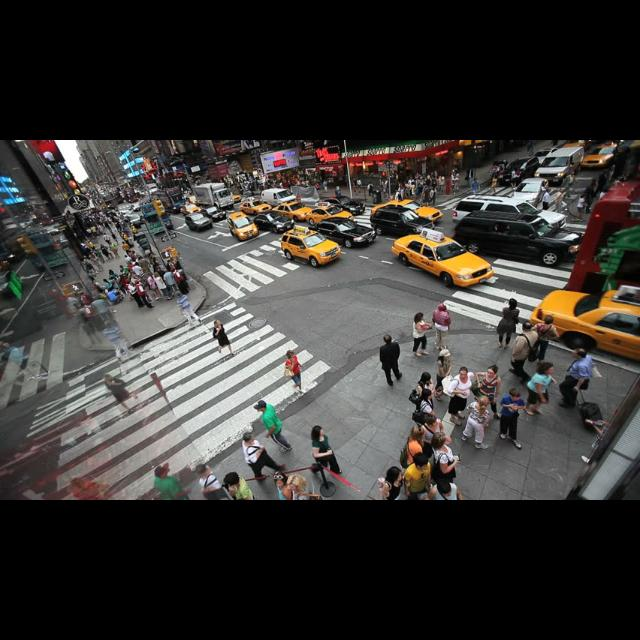head: (412, 452, 430, 472), (432, 434, 448, 451), (288, 476, 304, 492), (437, 482, 453, 498), (388, 468, 404, 482), (154, 466, 172, 478), (274, 472, 286, 490), (226, 473, 240, 487), (412, 426, 426, 439), (572, 348, 588, 359), (510, 388, 522, 402), (542, 362, 554, 376), (427, 415, 438, 429), (196, 468, 208, 480), (488, 365, 498, 379), (441, 351, 452, 362), (244, 434, 256, 444), (314, 428, 326, 438), (460, 368, 470, 380), (422, 373, 432, 385), (287, 351, 297, 362), (257, 402, 267, 413), (478, 398, 489, 408), (522, 322, 532, 333), (422, 390, 433, 400), (105, 374, 114, 384), (544, 316, 554, 324), (416, 314, 426, 322), (214, 320, 222, 328), (510, 302, 518, 310), (383, 335, 391, 343), (439, 304, 447, 312), (606, 421, 614, 429), (106, 320, 112, 328), (175, 292, 182, 298), (126, 280, 132, 286), (134, 280, 140, 286), (92, 254, 98, 260), (80, 258, 86, 264), (154, 274, 160, 278), (172, 268, 176, 274), (108, 288, 112, 294), (110, 270, 114, 276), (474, 178, 478, 184), (95, 296, 101, 300), (572, 172, 576, 178), (138, 256, 144, 260), (164, 270, 168, 274), (104, 280, 108, 284), (110, 242, 114, 246), (124, 256, 128, 260), (494, 177, 498, 181), (512, 168, 516, 172), (547, 190, 551, 193), (580, 197, 584, 200), (102, 247, 105, 250), (150, 274, 152, 278), (123, 242, 125, 245), (88, 242, 90, 244), (105, 233, 107, 235), (112, 233, 114, 235)
person: (556, 347, 606, 411), (580, 408, 626, 469), (240, 432, 290, 484), (506, 320, 542, 386), (252, 400, 294, 454), (440, 365, 476, 427), (398, 426, 430, 494), (522, 360, 558, 418), (469, 364, 505, 422), (460, 394, 494, 452), (526, 314, 562, 366), (411, 388, 444, 444), (407, 370, 439, 426), (310, 425, 344, 477), (498, 388, 526, 450), (418, 412, 446, 473), (103, 373, 141, 417), (494, 298, 524, 352), (102, 320, 134, 364), (378, 334, 404, 388), (432, 349, 456, 403), (173, 289, 204, 329), (283, 349, 309, 395), (431, 302, 453, 352), (90, 296, 122, 330), (211, 318, 237, 358), (411, 312, 433, 358), (122, 278, 146, 310), (557, 170, 581, 200), (134, 280, 156, 310), (153, 272, 174, 302), (162, 268, 182, 298), (170, 266, 190, 296), (146, 270, 164, 302), (574, 194, 590, 222), (101, 278, 122, 298), (78, 258, 98, 278), (137, 256, 155, 278), (106, 269, 122, 291), (470, 177, 482, 203), (90, 254, 106, 272), (510, 165, 520, 191), (542, 189, 552, 215), (107, 288, 121, 306), (108, 241, 122, 259), (121, 240, 135, 258), (100, 243, 112, 260), (491, 174, 499, 196), (86, 240, 98, 254), (102, 233, 114, 247), (124, 254, 136, 268), (111, 232, 121, 246)
